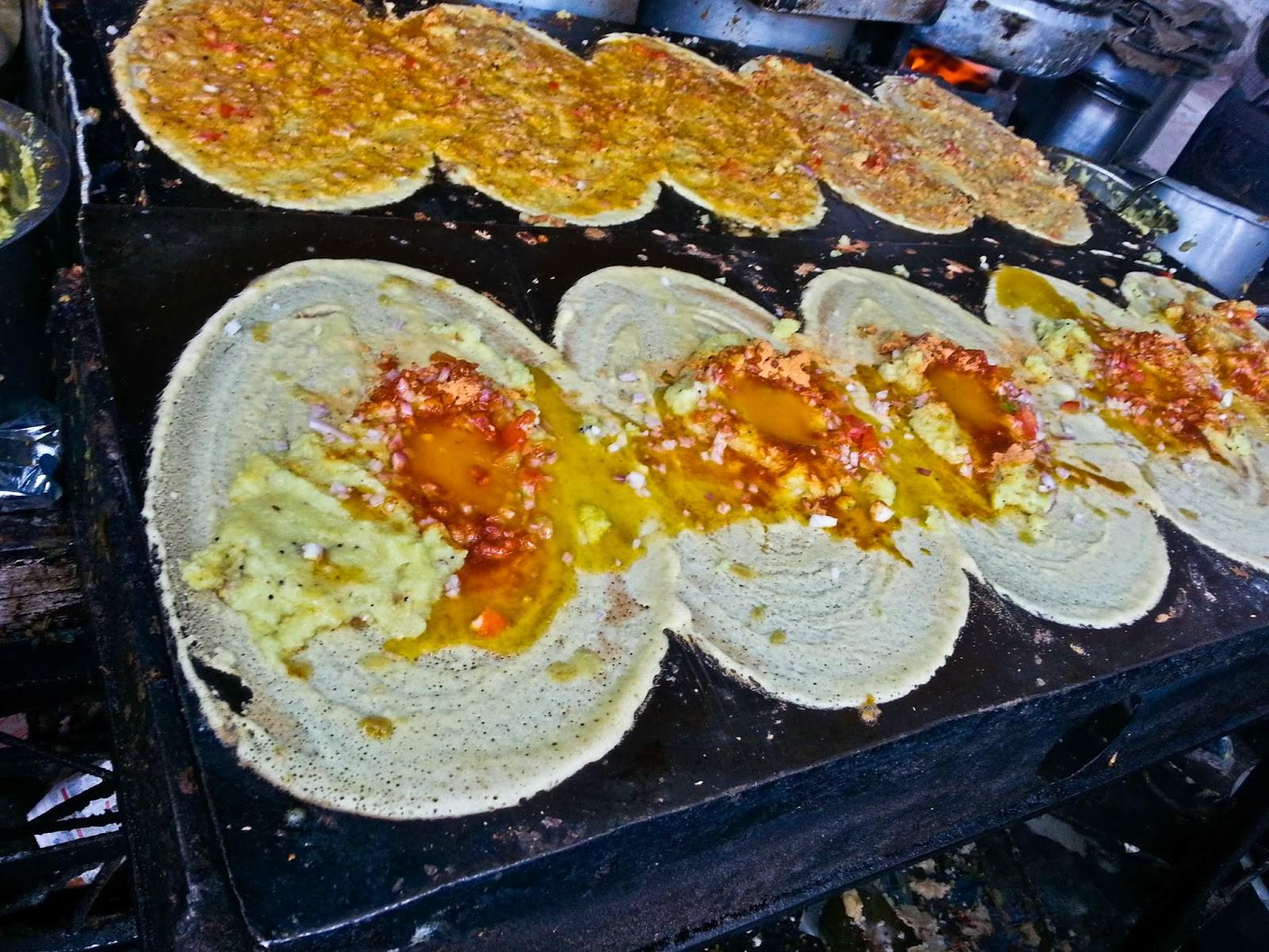Dosa: (144, 262, 672, 820), (553, 267, 969, 709), (801, 269, 1169, 629), (984, 264, 1269, 574), (110, 3, 434, 212), (390, 6, 661, 225), (744, 37, 989, 233), (588, 34, 824, 231), (879, 74, 1092, 245), (1120, 270, 1269, 423)
